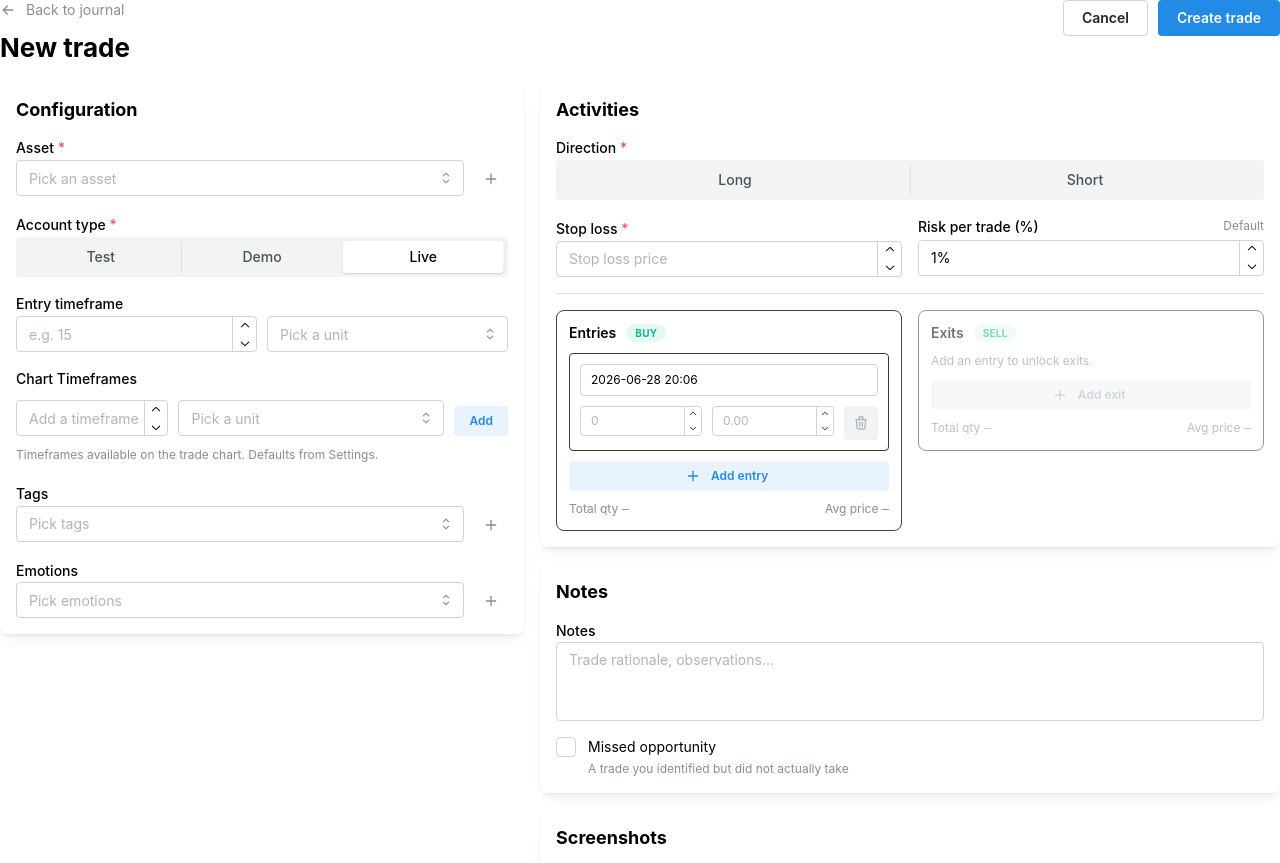
Test: TradeFormPage — inline reference-data creation › creates an asset inline and auto-selects it
expect the heading "New trade" is shown: met, box [0,30,130,65]
Click the button named "Add asset".
click(491, 179)  # box [474,162,508,196]
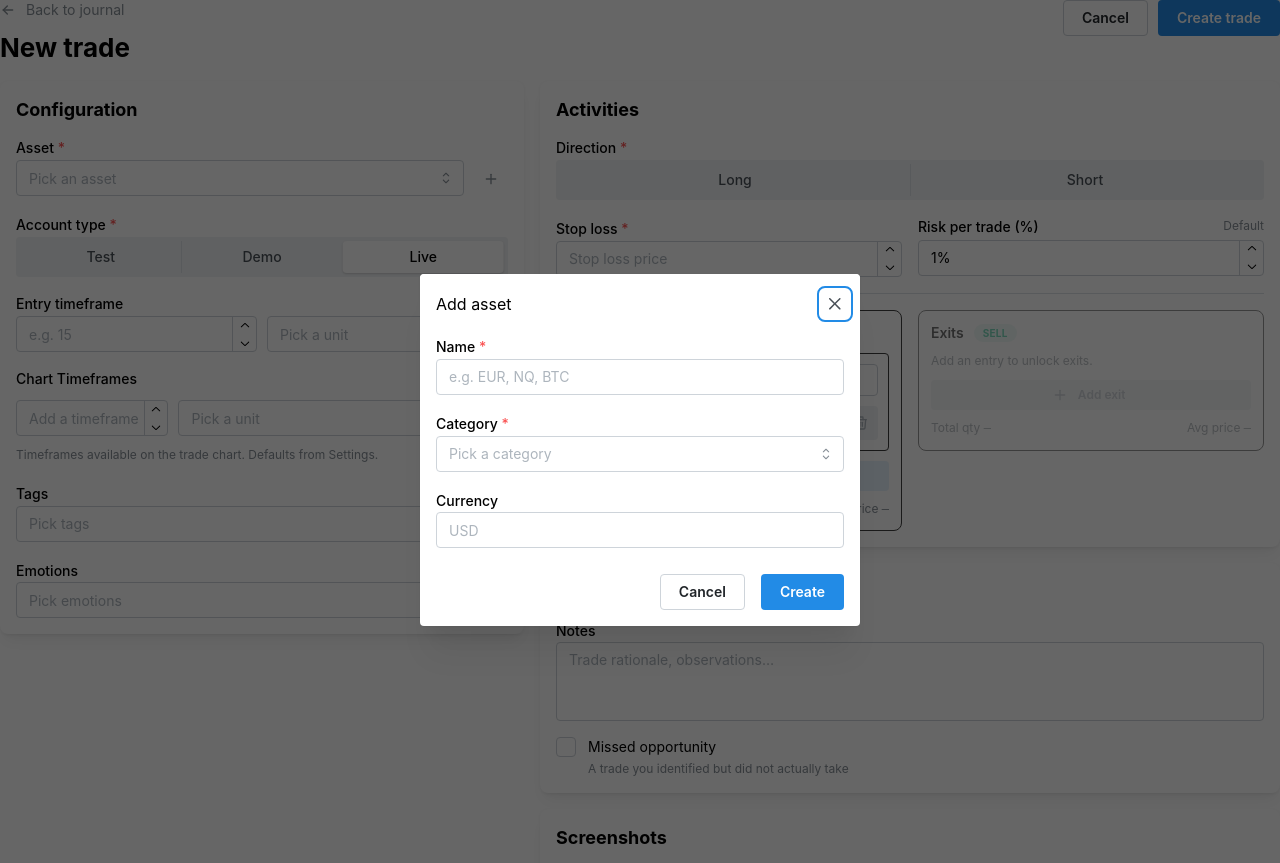
Type "GBP/USD" into the field labelled "Name".
click(640, 377); type("GBP/USD")  # box [436,359,844,395]
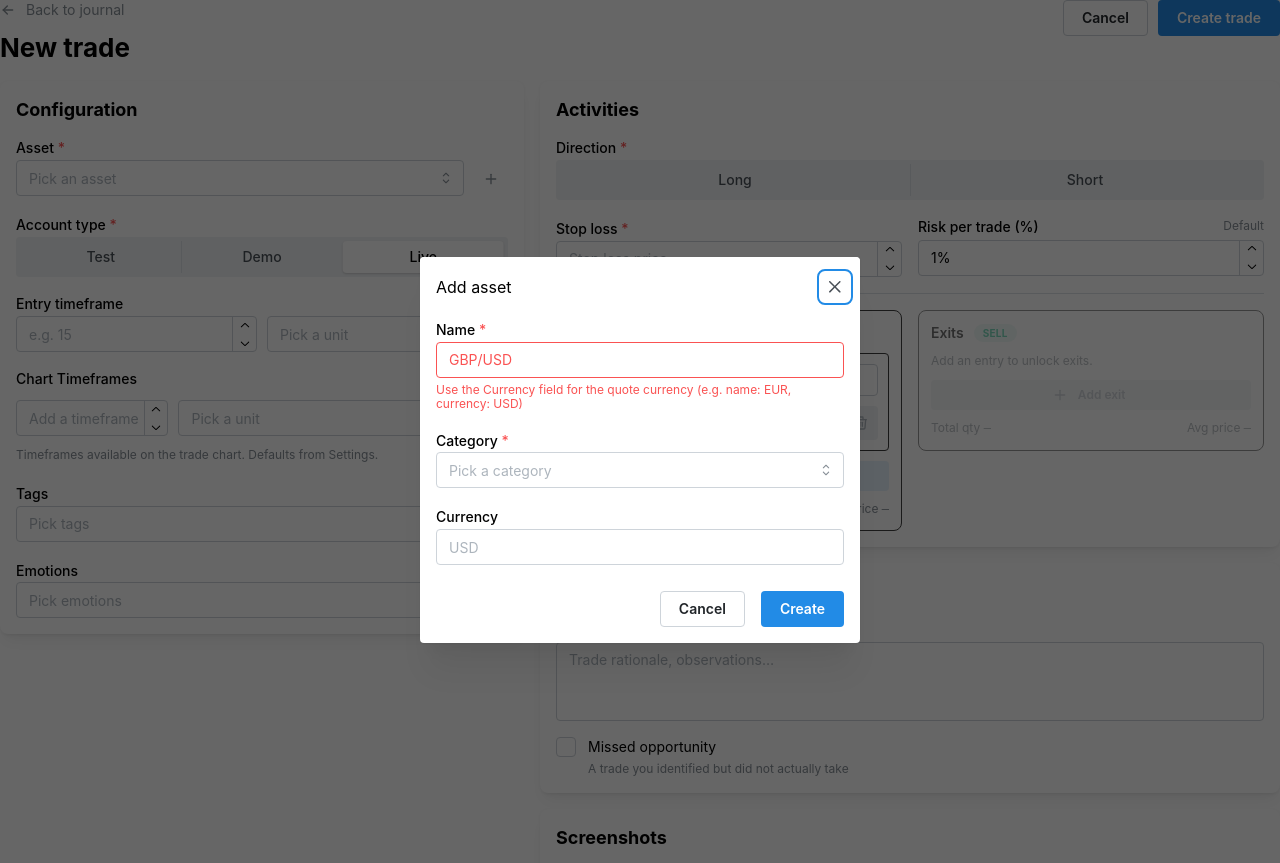
Click the field with placeholder "Pick a category".
click(640, 470)  # box [436,452,844,488]
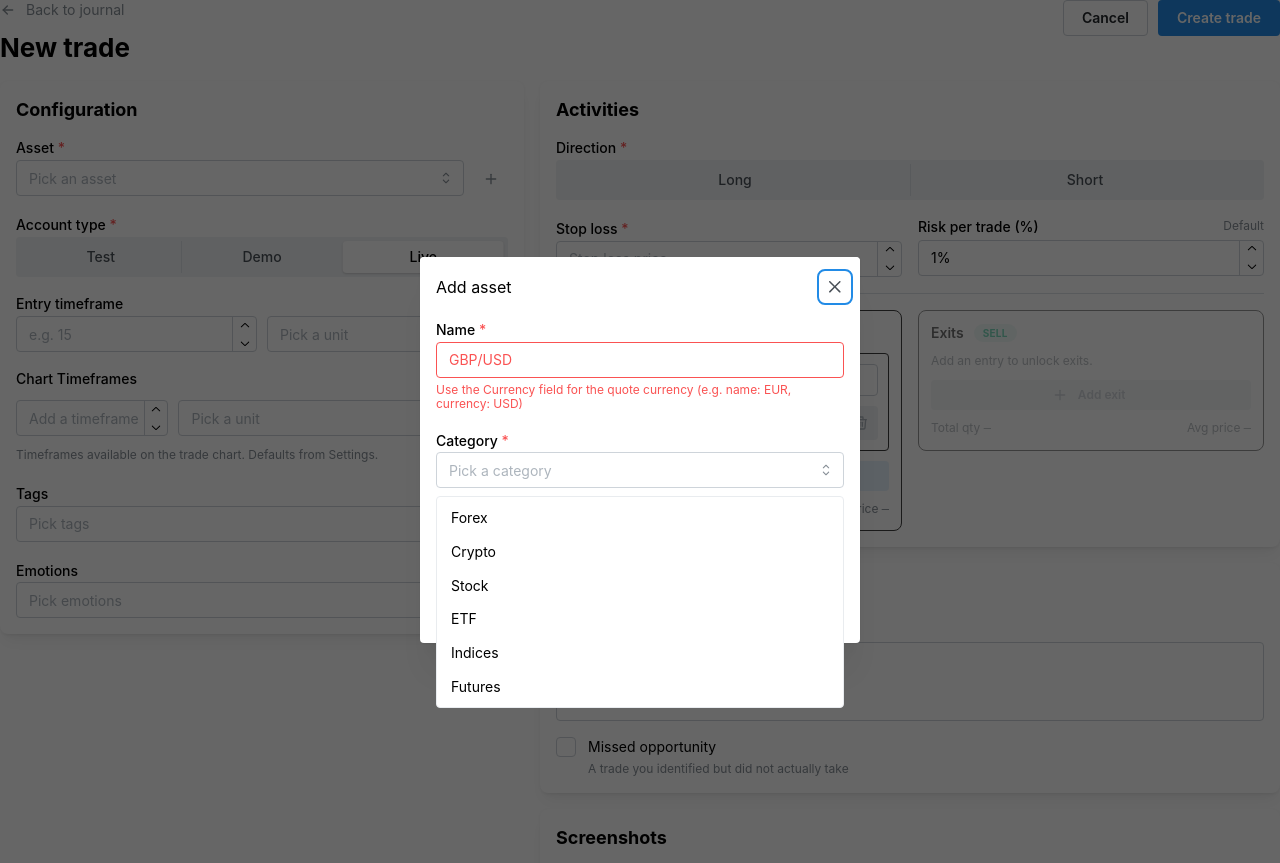
Click the option "Forex".
click(469, 518)  # box [451,509,488,526]
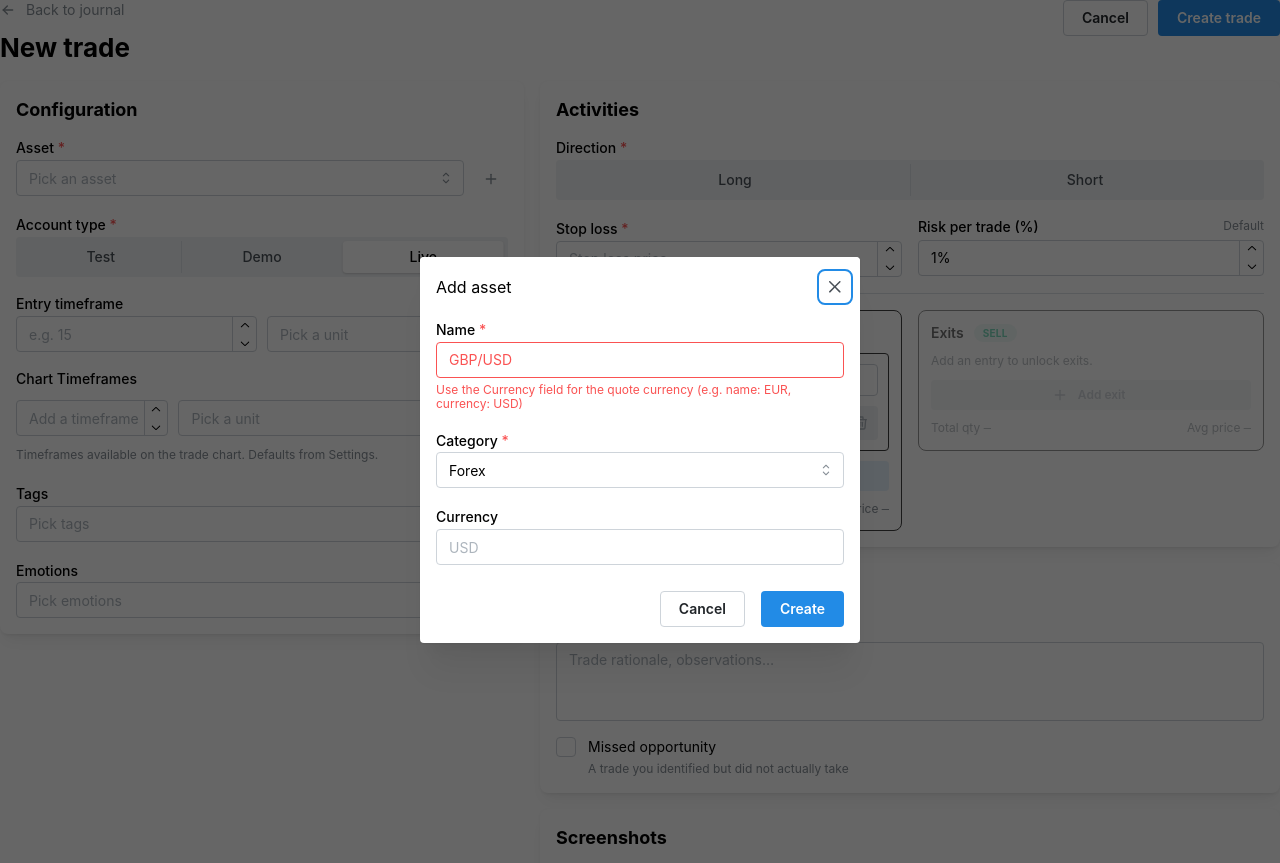
Click the button "Create".
click(802, 609)  # box [761,591,844,627]
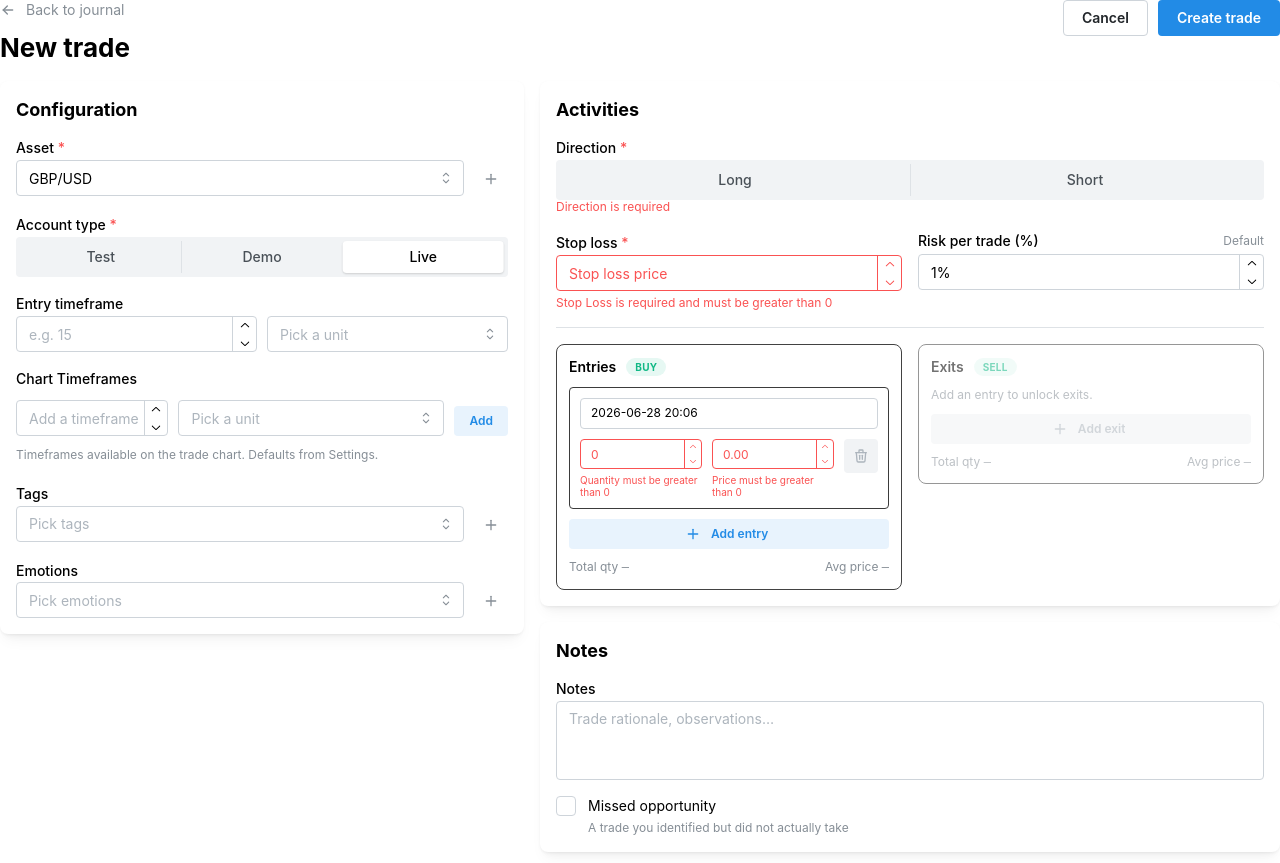
expect the field with placeholder "Pick an asset" holds "GBP/USD": met, box [16,160,464,196]
